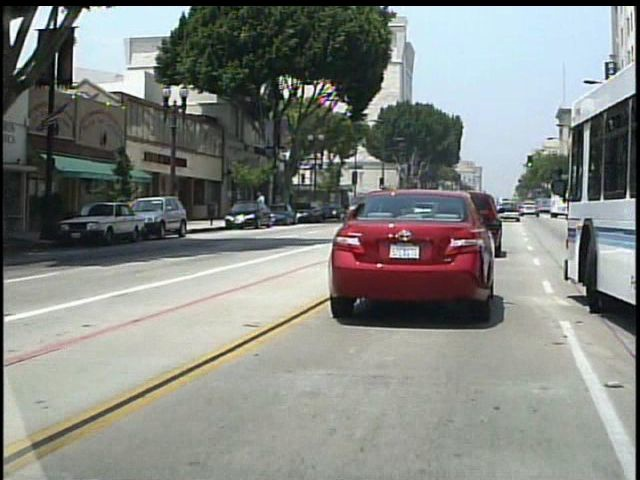person: (257, 190, 271, 224)
